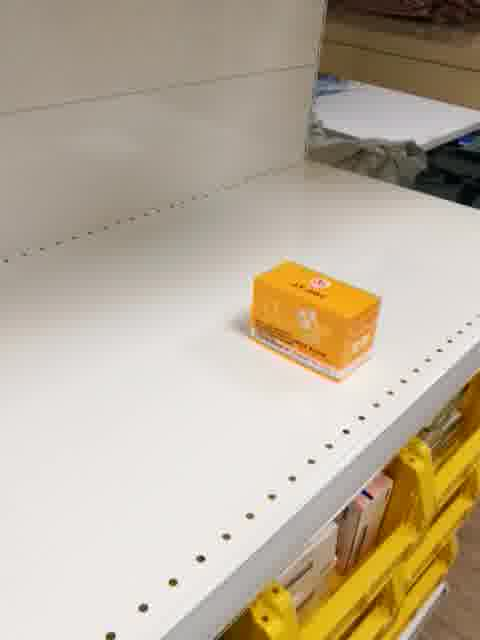jasminetea: (246, 256, 383, 387)
